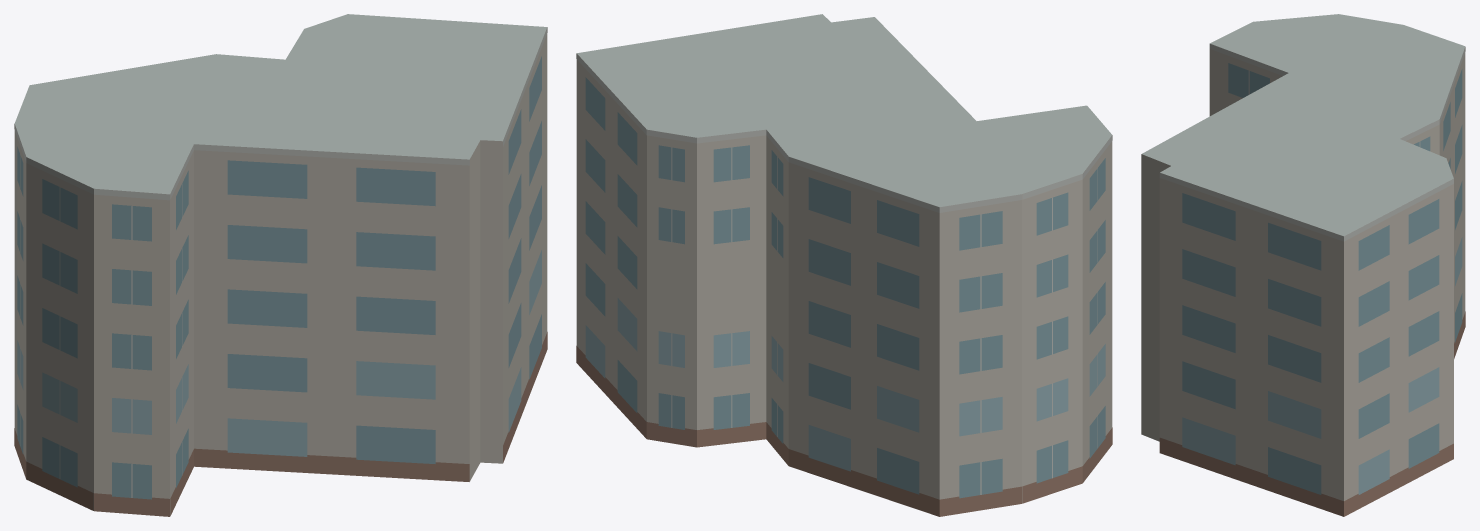
File: survey-upis-32779439.glb
3 renders of one model, left to right at view 1: azimuth 30°, elevation 25°; view 2: azimuth 150°, elevation 25°; view 3: azimuth 270°, elevation 25°, orthographic. The views are drawn at different scales.
Visible parts, largest first — view 1: survey-upis-32779439.tmp; view 2: survey-upis-32779439.tmp; view 3: survey-upis-32779439.tmp.
Part boxes in pixels (x1,y1,x2,y2): survey-upis-32779439.tmp: (14, 14, 547, 516); survey-upis-32779439.tmp: (576, 14, 1112, 516); survey-upis-32779439.tmp: (1141, 14, 1465, 516).
Bounding box in the file's own units: 22.37 × 13.15 × 13.78.
